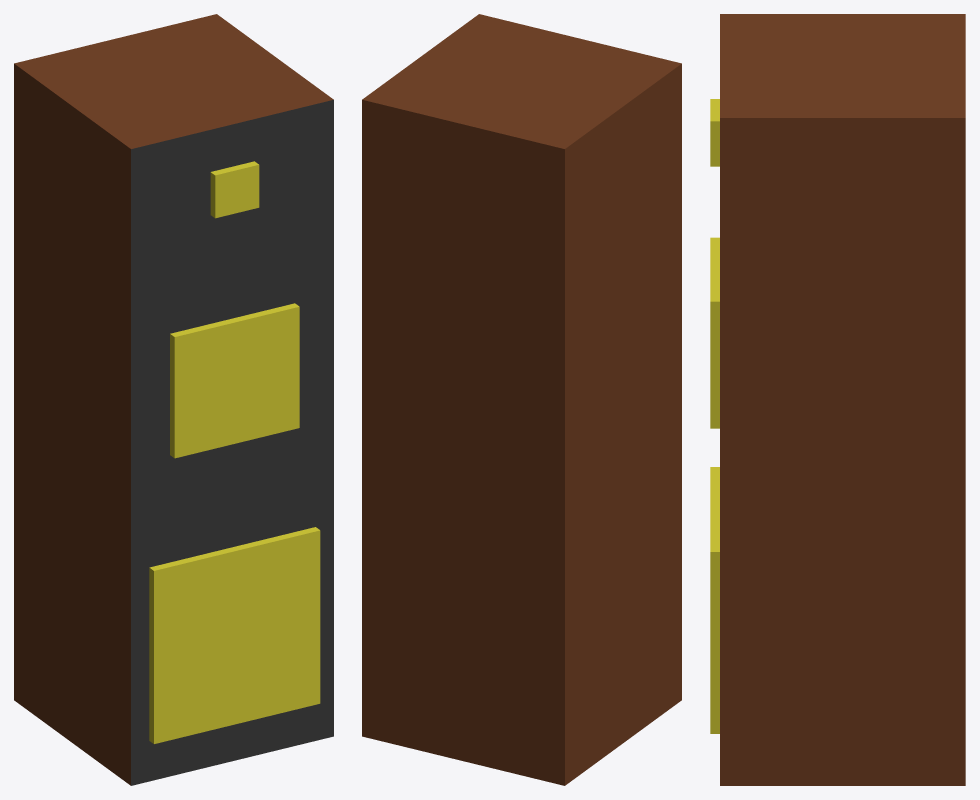
The model's file is Musical_Column01.fbx.
The picture shows the model from 3 angles, left to right: view 1: azimuth 30°, elevation 25°; view 2: azimuth 150°, elevation 25°; view 3: azimuth 270°, elevation 25°; orthographic projection. The views are drawn at different scales.
Parts seen in each view (by area): view 1: Musical_Column01; view 2: Musical_Column01; view 3: Musical_Column01.
Part boxes in pixels (<box>): Musical_Column01: <box>14,14,333,785</box>; Musical_Column01: <box>362,14,681,785</box>; Musical_Column01: <box>710,14,965,785</box>.
Bounding box in the file's own units: 50 × 150 × 52.
